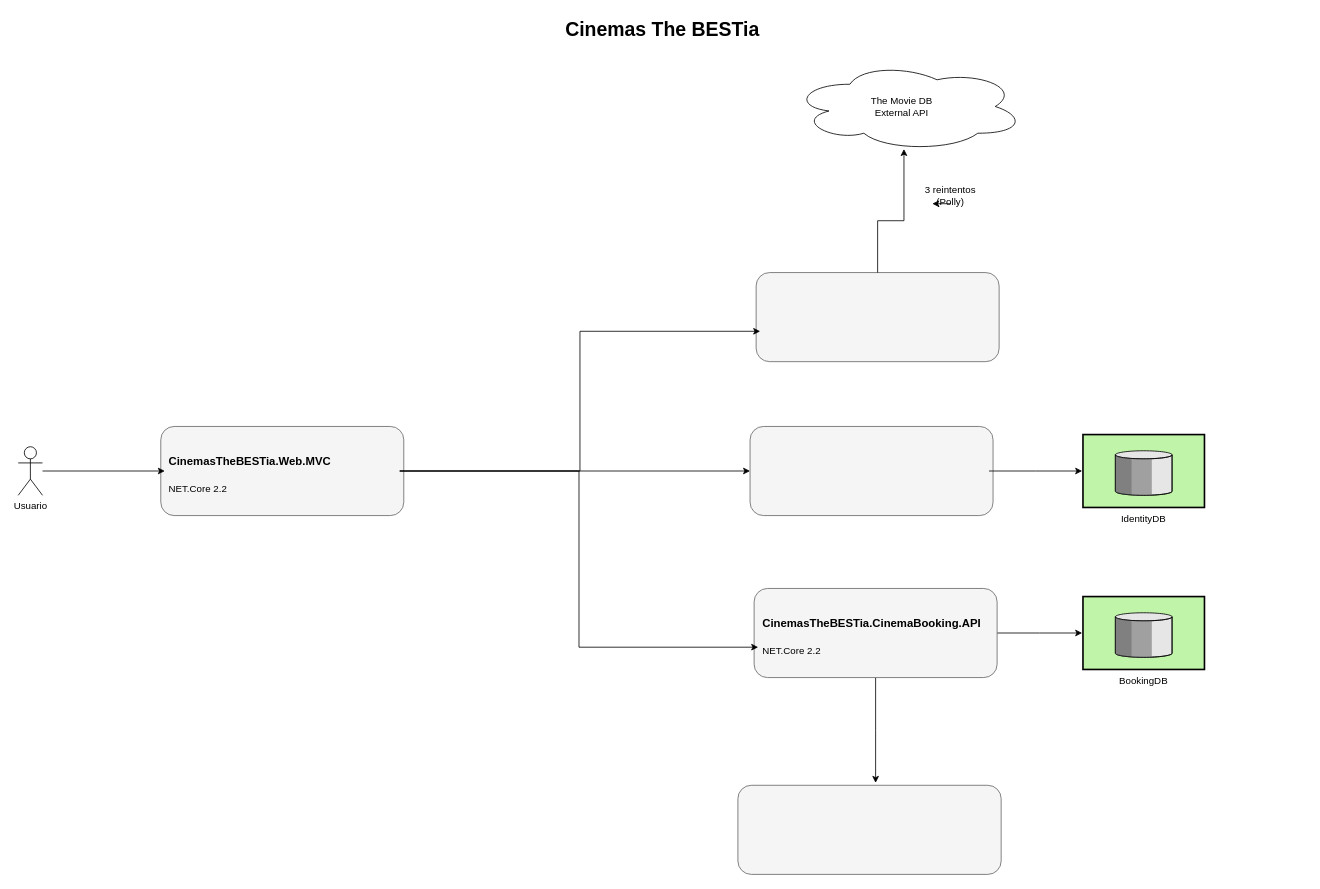
The diagram is 1320 pixels wide and 889 high, and some of its shapes have lost their labels. The box of each missing label's shape, as (x1, y1, x2, y2) in pixels:
CinemasTheBESTia.FakePaymentService.API NET.Core 2.2: (737, 784, 1001, 874)
CinemasTheBESTia.IdentityServer NET.Core 2.2 - IdentityServer 4: (749, 426, 993, 516)
CinemasTheBESTia.Movies.API NET.Core 2.2: (755, 272, 999, 362)
